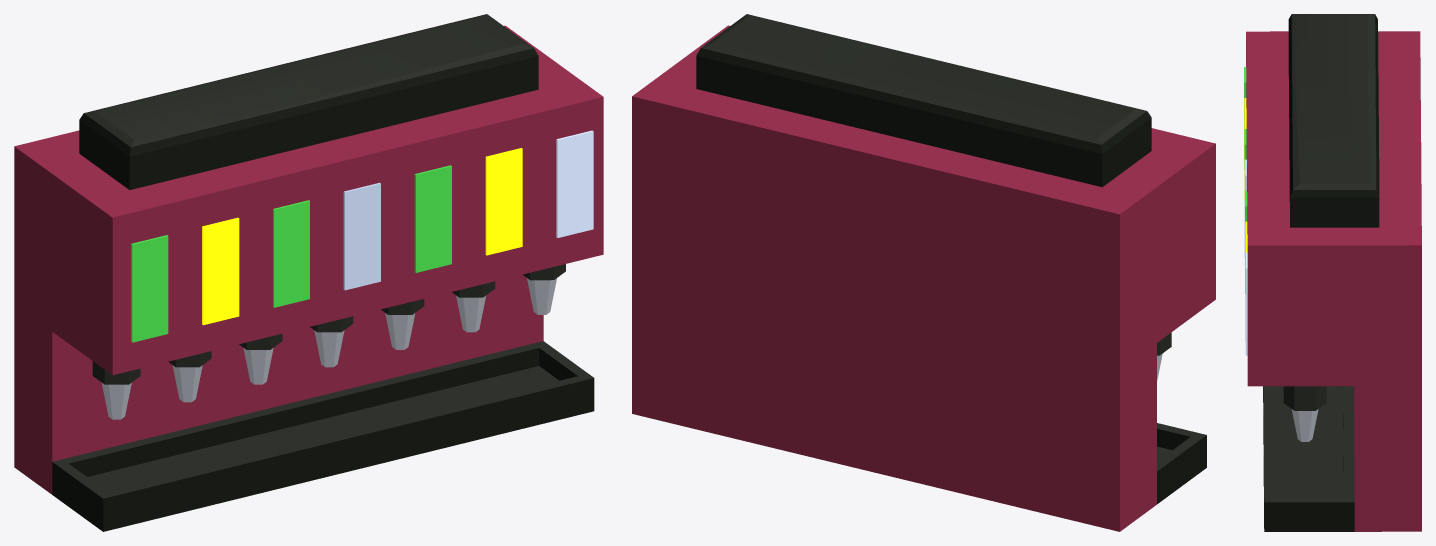
Rendered from Drinks_Dispenser_Pink.glb.
3 renders of one model, left to right at view 1: azimuth 30°, elevation 25°; view 2: azimuth 150°, elevation 25°; view 3: azimuth 270°, elevation 25°, orthographic. The views are drawn at different scales.
Visible parts, largest first — view 1: Drink_Dispenser; view 2: Drink_Dispenser; view 3: Drink_Dispenser.
Boxes of the visible parts, x1=… form: Drink_Dispenser: x1=14, y1=14, x2=603, y2=531; Drink_Dispenser: x1=632, y1=14, x2=1215, y2=531; Drink_Dispenser: x1=1244, y1=14, x2=1421, y2=531.
Size of what is drawn, in the model's own units: 1.38 by 0.9798 by 0.4855.
Materials: 1 (1 with a texture image).
